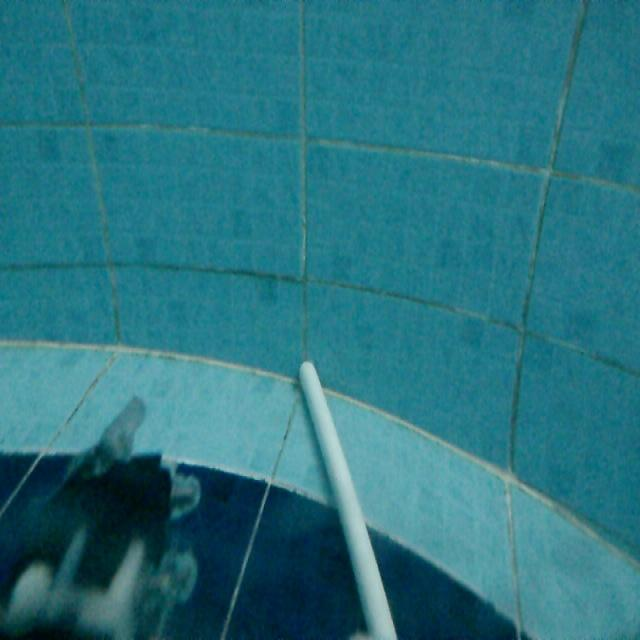Cube: (292, 353, 407, 639)
